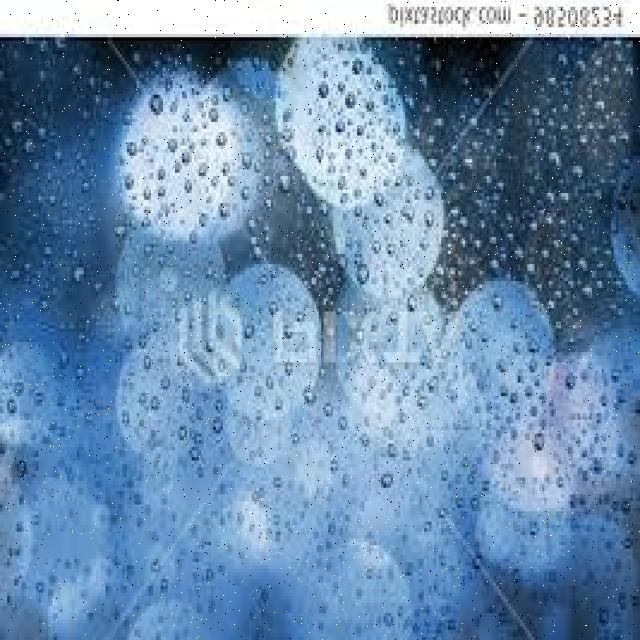raindrop: (278, 156, 302, 198), (352, 256, 378, 290), (300, 380, 320, 417), (566, 157, 586, 192), (69, 258, 90, 290), (485, 252, 509, 280), (520, 255, 544, 283), (568, 228, 589, 260), (545, 143, 569, 171), (322, 396, 342, 428), (180, 380, 203, 407), (212, 412, 232, 442), (532, 423, 550, 456), (379, 468, 399, 497), (491, 289, 512, 316), (188, 443, 206, 471), (492, 352, 512, 377), (10, 114, 28, 138), (178, 422, 195, 446), (141, 356, 160, 376), (564, 369, 578, 396), (22, 139, 37, 158), (37, 126, 49, 148)
